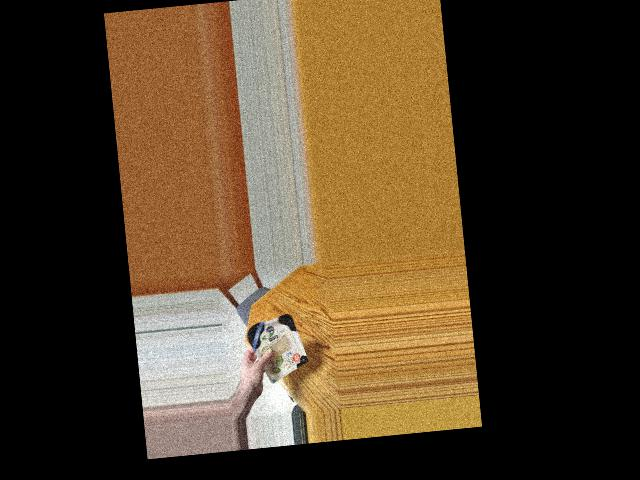cheese: (243, 311, 307, 375)
